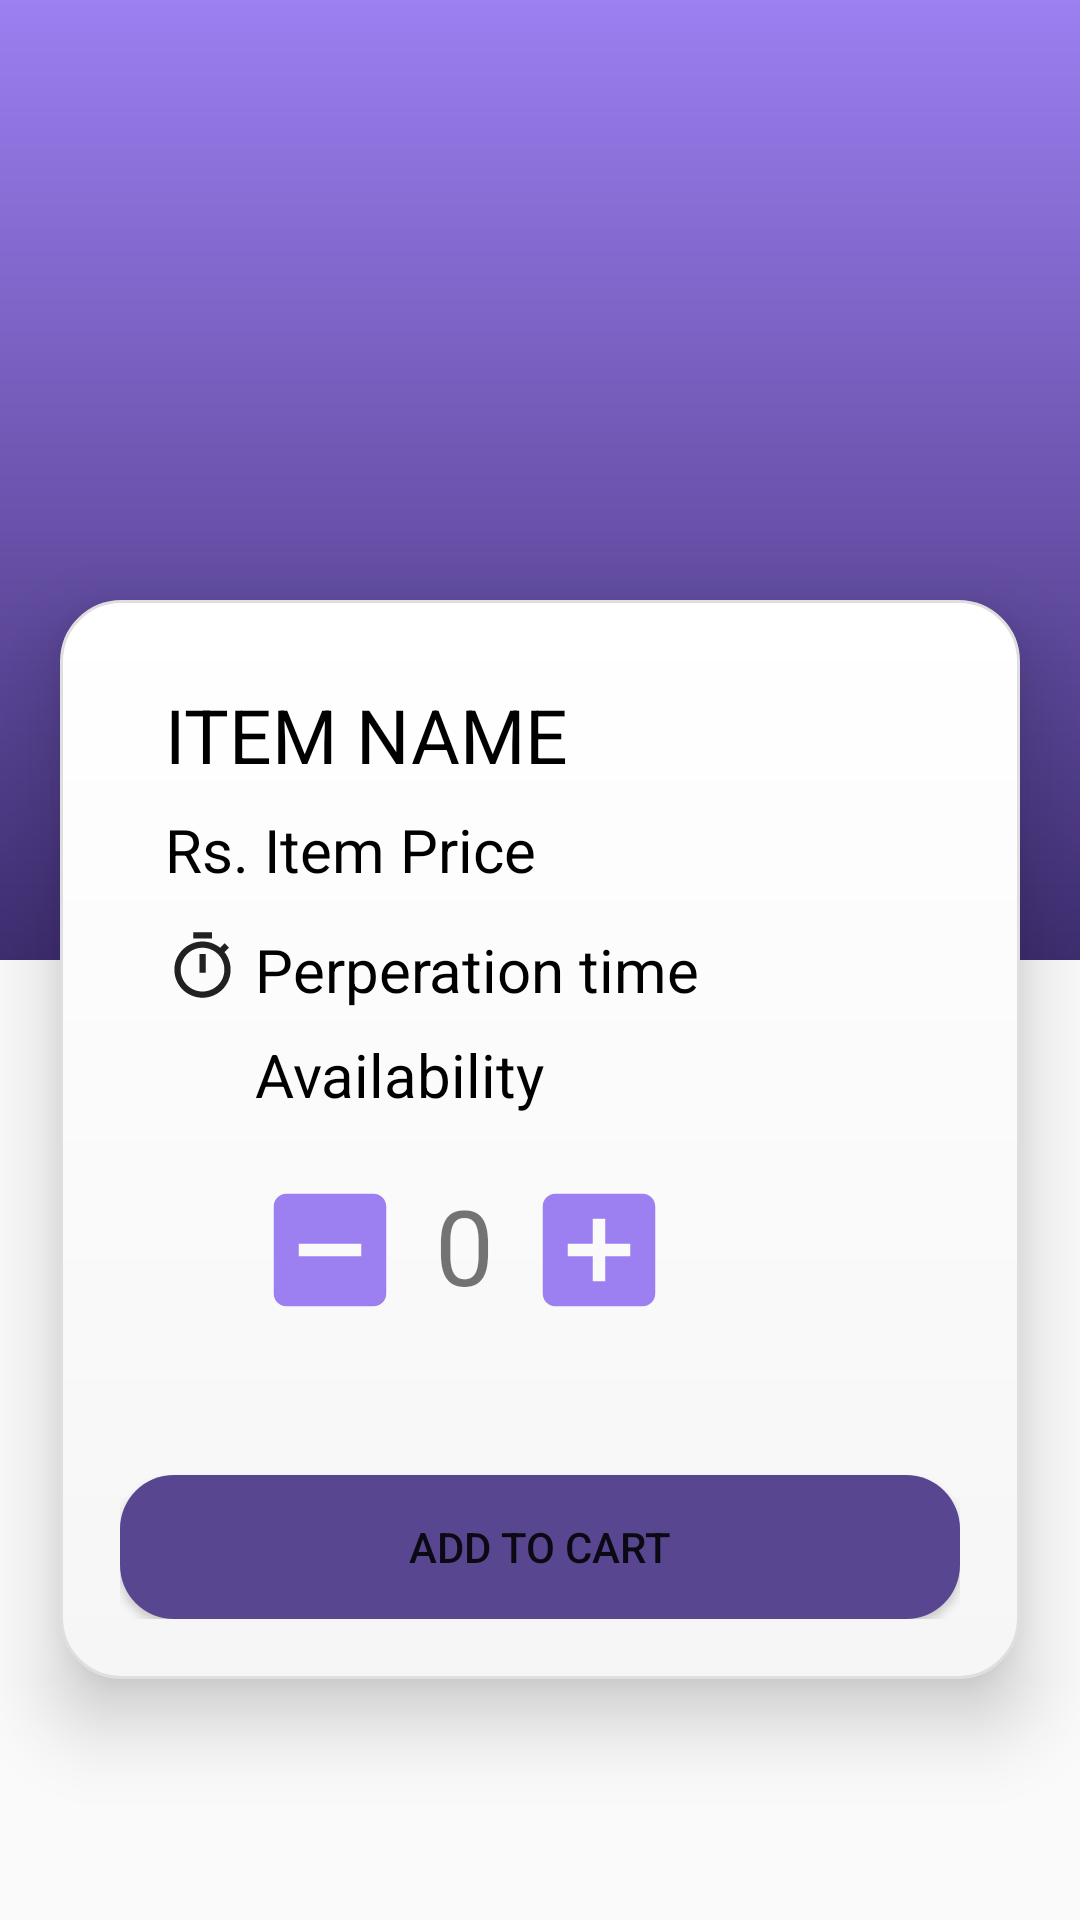

Icon bounding boxes for this 1080*1920 phone screenshot, format (x1, y1, x2, y2):
add box: (542, 1193, 656, 1307)
subtract box: (273, 1193, 387, 1307)
timer: (174, 932, 231, 998)
